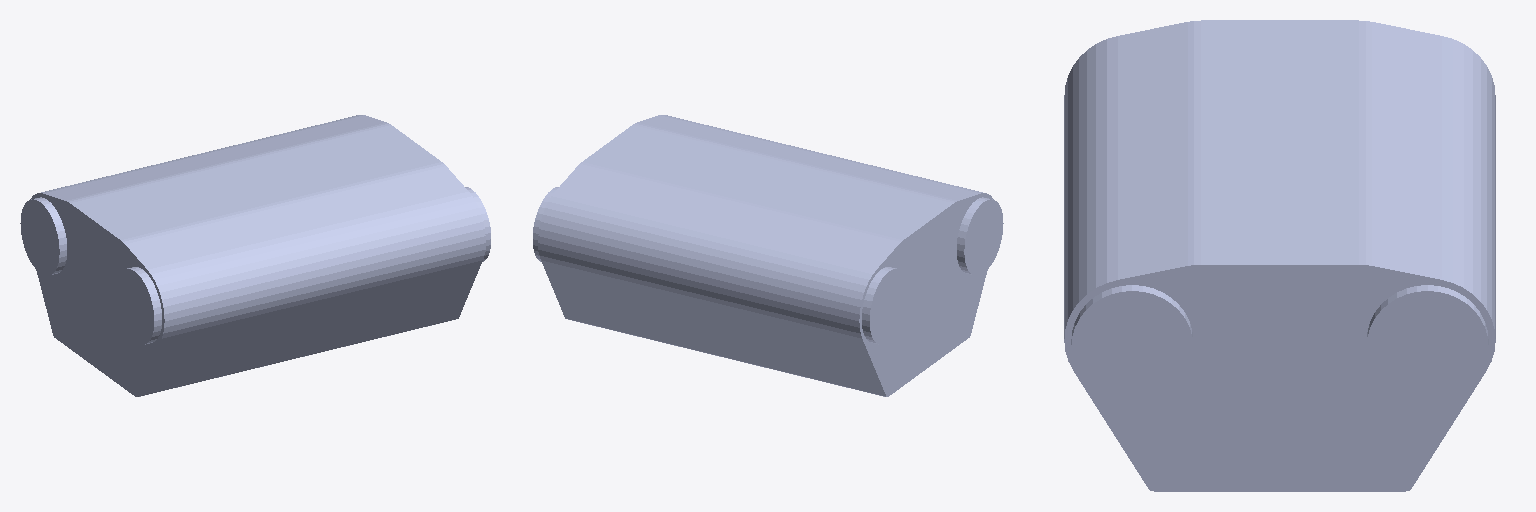
The robot description file, URDF, robot "bqr3":
<?xml version="1.0" encoding="utf-8"?>
<robot name="bqr3">
  <link name="base_link">
    <inertial>
      <origin
        xyz="-0.000092 0.001447 -0.042478"
        rpy="0 0 0" />
      <mass
        value="26.5" />
      <inertia
        ixx="0.259494841"
        ixy="-4.1227E-05"
        ixz="1.93862E-04"
        iyy="0.859939262"
        iyz="-2.040130E-03"
        izz="0.945567440" />
    </inertial>
    <visual>
      <origin
        xyz="0 0 0"
        rpy="0 0 0" />
      <geometry>
        <mesh
          filename="package://bqr3_description/meshes/base_link.STL" />
      </geometry>
      <material
        name="">
        <color
          rgba="0.79216 0.81961 0.93333 1" />
      </material>
    </visual>
    <collision>
      <origin
        xyz="0 0 0"
        rpy="0 0 0" />
      <geometry>
        <mesh
          filename="package://bqr3_description/meshes/base_link.STL" />
      </geometry>
    </collision>
  </link>
  
  <link name="FR_abd_link">
    <inertial>
      <origin
        xyz="0.050570 0.046892 1.0E-06"
        rpy="0 0 0" />
      <mass
        value="1.656" />
      <inertia
        ixx="0.002476692"
        ixy="4.00827E-04"
        ixz="3.0E-09"
        iyy="2.206021E-03"
        iyz="-5.9E-08"
        izz="2.653852E-03" />
    </inertial>
    <visual>
      <origin
        xyz="0 0 0"
        rpy="0 0 0" />
      <geometry>
        <mesh
          filename="package://bqr3_description/meshes/FR_abd_link.STL" />
      </geometry>
      <material
        name="">
        <color
          rgba="0.89804 0.91765 0.92941 1" />
      </material>
    </visual>
    <collision>
      <origin
        xyz="0 0 0"
        rpy="0 0 0" />
      <geometry>
        <mesh
          filename="package://bqr3_description/meshes/FR_abd_link.STL" />
      </geometry>
    </collision>
  </link>
  <joint name="FR_abd_joint" type="revolute">
    <origin
      xyz="0.244 -0.115 0"
      rpy="0 0 0" />
    <parent
      link="base_link" />
    <child
      link="FR_abd_link" />
    <axis
      xyz="1 0 0" />
    <limit
      lower="-3.14"
      upper="3.14"
      effort="300"
      velocity="10" />
    <limit
      lower="-3.14"
      upper="3.14"
      effort="300"
      velocity="10" />
  </joint>
  <link name="FR_hip_link">
    <inertial>
      <origin
        xyz="-0.00063 -0.0201 -0.15827"
        rpy="0 0 0" />
      <mass
        value="1.337" />
      <inertia
        ixx="0.018816808"
        ixy="-3.29929E-05"
        ixz="0.000792"
        iyy="0.018864419"
        iyz="0.000185"
        izz="0.000837451" />
    </inertial>
    <visual>
      <origin
        xyz="0 0 0"
        rpy="0 0 0" />
      <geometry>
        <mesh
          filename="package://bqr3_description/meshes/FR_hip_link.STL" />
      </geometry>
      <material
        name="">
        <color
          rgba="0.79216 0.81961 0.93333 1" />
      </material>
    </visual>
    <collision>
      <origin
        xyz="0 0 0"
        rpy="0 0 0" />
      <geometry>
        <mesh
          filename="package://bqr3_description/meshes/FR_hip_link.STL" />
      </geometry>
    </collision>
  </link>
  <joint name="FR_hip_joint" type="revolute">
    <origin
      xyz="0.056 0.018587 0"
      rpy="0 0 0" />
    <parent
      link="FR_abd_link" />
    <child
      link="FR_hip_link" />
    <axis
      xyz="0 1 0" />
    <limit
      lower="-3.14"
      upper="3.14"
      effort="300"
      velocity="10" />
  </joint>
  <link name="FR_knee_link">
    <inertial>
      <origin
        xyz="-0.00517 0 -0.12521"
        rpy="0 0 0" />
      <mass
        value="0.6489" />
      <inertia
        ixx="0.006478288"
        ixy="2.4E-10"
        ixz="-0.00013"
        iyy="0.006528945"
        iyz="-1.015E-08"
        izz="0.00013568" />
    </inertial>
    <visual>
      <origin
        xyz="0 0 0"
        rpy="0 0 0" />
      <geometry>
        <mesh
          filename="package://bqr3_description/meshes/FR_knee_link.STL" />
      </geometry>
      <material
        name="">
        <color
          rgba="0.898039215686275 0.917647058823529 0.929411764705882 1" />
      </material>
    </visual>
    <collision>
      <origin
        xyz="0 0 0"
        rpy="0 0 0" />
      <geometry>
        <mesh
          filename="package://bqr3_description/meshes/FR_knee_link.STL" />
      </geometry>
    </collision>
  </link>
  <joint name="FR_knee_joint" type="revolute">
    <origin
      xyz="0 -0.10009 -0.36"
      rpy="0 0 0" />
    <parent
      link="FR_hip_link" />
    <child
      link="FR_knee_link" />
    <axis
      xyz="0 1 0" />
    <limit
      lower="-3.14"
      upper="3.14"
      effort="300"
      velocity="10" />
  </joint>
  <link name="FR_foot_link">
    <inertial>
      <origin
        xyz="0.0011791 -0.00030084 -0.0024379"
        rpy="0 0 0" />
      <mass
        value="0.10321" />
      <inertia
        ixx="2.9572E-05"
        ixy="3.6317E-09"
        ixz="6.7484E-07"
        iyy="3.5401E-05"
        iyz="-9.1467E-09"
        izz="2.9167E-05" />
    </inertial>
    <visual>
      <origin
        xyz="0 0 0"
        rpy="0 0 0" />
      <geometry>
        <mesh
          filename="package://bqr3_description/meshes/FR_foot_link.STL" />
      </geometry>
      <material
        name="">
        <color
          rgba="1 1 1 1" />
      </material>
    </visual>
    <collision>
      <origin
        xyz="0 0 0"
        rpy="0 0 0" />
      <geometry>
        <mesh
          filename="package://bqr3_description/meshes/FR_foot_link.STL" />
      </geometry>
    </collision>
  </link>
  <joint name="FR_foot_joint" type="fixed">
    <origin
      xyz="-0.00054829 0 -0.36"
      rpy="0 0 0" />
    <parent
      link="FR_knee_link" />
    <child
      link="FR_foot_link" />
  </joint>

  <link name="HR_abd_link">
    <inertial>
      <origin
        xyz="-0.050570 0.046982 -1.0E-06"
        rpy="0 0 0" />
      <mass
        value="1.656" />
      <inertia
        ixx="0.002476692"
        ixy="-4.00827E-04"
        ixz="3.0E-09"
        iyy="2.206021E-03"
        iyz="5.9E-08"
        izz="2.653852E-03" />
    </inertial>
    <visual>
      <origin
        xyz="0 0 0"
        rpy="0 0 0" />
      <geometry>
        <mesh
          filename="package://bqr3_description/meshes/HR_abd_link.STL" />
      </geometry>
      <material
        name="">
        <color
          rgba="0.89804 0.91765 0.92941 1" />
      </material>
    </visual>
    <collision>
      <origin
        xyz="0 0 0"
        rpy="0 0 0" />
      <geometry>
        <mesh
          filename="package://bqr3_description/meshes/HR_abd_link.STL" />
      </geometry>
    </collision>
  </link>
  <joint name="HR_abd_joint" type="revolute">
    <origin
      xyz="-0.244 -0.115 0"
      rpy="0 0 0" />
    <parent
      link="base_link" />
    <child
      link="HR_abd_link" />
    <axis
      xyz="1 0 0" />
    <limit
      lower="-3.14"
      upper="3.14"
      effort="300"
      velocity="10" />
  </joint>
  <link name="HR_hip_link">
    <inertial>
      <origin
        xyz="-0.00063 -0.0201 -0.15827"
        rpy="0 0 0" />
      <mass
        value="1.337" />
      <inertia
        ixx="0.018816808"
        ixy="-3.29929E-05"
        ixz="0.000792"
        iyy="0.018864419"
        iyz="0.000185"
        izz="0.000837451" />
    </inertial>
    <visual>
      <origin
        xyz="0 0 0"
        rpy="0 0 0" />
      <geometry>
        <mesh
          filename="package://bqr3_description/meshes/HR_hip_link.STL" />
      </geometry>
      <material
        name="">
        <color
          rgba="0.79216 0.81961 0.93333 1" />
      </material>
    </visual>
    <collision>
      <origin
        xyz="0 0 0"
        rpy="0 0 0" />
      <geometry>
        <mesh
          filename="package://bqr3_description/meshes/HR_hip_link.STL" />
      </geometry>
    </collision>
  </link>
  <joint name="HR_hip_joint" type="revolute">
    <origin
      xyz="-0.056 0.018587 0"
      rpy="0 0 0" />
    <parent
      link="HR_abd_link" />
    <child
      link="HR_hip_link" />
    <axis
      xyz="0 1 0" />
    <limit
      lower="-3.14"
      upper="3.14"
      effort="300"
      velocity="10" />
  </joint>
  <link name="HR_knee_link">
    <inertial>
      <origin
        xyz="-0.00517 0 -0.12521"
        rpy="0 0 0" />
      <mass
        value="0.6489" />
      <inertia
        ixx="0.006478288"
        ixy="2.4E-10"
        ixz="-0.00013"
        iyy="0.006528945"
        iyz="-1.015E-08"
        izz="0.00013568" />
    </inertial>
    <visual>
      <origin
        xyz="0 0 0"
        rpy="0 0 0" />
      <geometry>
        <mesh
          filename="package://bqr3_description/meshes/HR_knee_link.STL" />
      </geometry>
      <material
        name="">
        <color
          rgba="0.89804 0.91765 0.92941 1" />
      </material>
    </visual>
    <collision>
      <origin
        xyz="0 0 0"
        rpy="0 0 0" />
      <geometry>
        <mesh
          filename="package://bqr3_description/meshes/HR_knee_link.STL" />
      </geometry>
    </collision>
  </link>
  <joint name="HR_knee_joint" type="revolute">
    <origin
      xyz="0 -0.10009 -0.36"
      rpy="0 0 0" />
    <parent
      link="HR_hip_link" />
    <child
      link="HR_knee_link" />
    <axis
      xyz="0 1 0" />
    <limit
      lower="-3.14"
      upper="3.14"
      effort="300"
      velocity="10" />
  </joint>
  <link name="HR_foot_link">
    <inertial>
      <origin
        xyz="0.0011791 -0.00030085 -0.0024379"
        rpy="0 0 0" />
      <mass
        value="0.10321" />
      <inertia
        ixx="2.9572E-05"
        ixy="3.6261E-09"
        ixz="6.7484E-07"
        iyy="3.5401E-05"
        iyz="-9.1442E-09"
        izz="2.9167E-05" />
    </inertial>
    <visual>
      <origin
        xyz="0 0 0"
        rpy="0 0 0" />
      <geometry>
        <mesh
          filename="package://bqr3_description/meshes/HR_foot_link.STL" />
      </geometry>
      <material
        name="">
        <color
          rgba="1 1 1 1" />
      </material>
    </visual>
    <collision>
      <origin
        xyz="0 0 0"
        rpy="0 0 0" />
      <geometry>
        <mesh
          filename="package://bqr3_description/meshes/HR_foot_link.STL" />
      </geometry>
    </collision>
  </link>
  <joint name="HR_foot_joint" type="fixed">
    <origin
      xyz="-0.00054828 0 -0.36"
      rpy="0 0 0" />
    <parent
      link="HR_knee_link" />
    <child
      link="HR_foot_link" />
    <axis
      xyz="0 0 0" />
  </joint>

  <link name="FL_abd_link">
    <inertial>
      <origin
        xyz="0.050570 -0.046982 -1.0E-06"
        rpy="0 0 0" />
      <mass
        value="1.656" />
      <inertia
        ixx="0.002476692"
        ixy="-4.00827E-04"
        ixz="-3.0E-09"
        iyy="2.206021E-03"
        iyz="-5.9E-08"
        izz="2.653852E-03" />
    </inertial>
    <visual>
      <origin
        xyz="0 0 0"
        rpy="0 0 0" />
      <geometry>
        <mesh
          filename="package://bqr3_description/meshes/FL_abd_link.STL" />
      </geometry>
      <material
        name="">
        <color
          rgba="0.89804 0.91765 0.92941 1" />
      </material>
    </visual>
    <collision>
      <origin
        xyz="0 0 0"
        rpy="0 0 0" />
      <geometry>
        <mesh
          filename="package://bqr3_description/meshes/FL_abd_link.STL" />
      </geometry>
    </collision>
  </link>
  <joint name="FL_abd_joint" type="revolute">
    <origin
      xyz="0.244 0.115 0"
      rpy="0 0 0" />
    <parent
      link="base_link" />
    <child
      link="FL_abd_link" />
    <axis
      xyz="1 0 0" />
    <limit
      lower="-3.14"
      upper="3.14"
      effort="300"
      velocity="10" />
  </joint>
  <link name="FL_hip_link">
    <inertial>
      <origin
        xyz="-0.00063 0.0201 -0.15827"
        rpy="0 0 0" />
      <mass
        value="1.337" />
      <inertia
        ixx="0.018816835"
        ixy="-3.29964E-05"
        ixz="0.000792"
        iyy="0.018864405"
        iyz="0.000185353"
        izz="0.000837413" />
    </inertial>
    <visual>
      <origin
        xyz="0 0 0"
        rpy="0 0 0" />
      <geometry>
        <mesh
          filename="package://bqr3_description/meshes/FL_hip_link.STL" />
      </geometry>
      <material
        name="">
        <color
          rgba="0.79216 0.81961 0.93333 1" />
      </material>
    </visual>
    <collision>
      <origin
        xyz="0 0 0"
        rpy="0 0 0" />
      <geometry>
        <mesh
          filename="package://bqr3_description/meshes/FL_hip_link.STL" />
      </geometry>
    </collision>
  </link>
  <joint name="FL_hip_joint" type="revolute">
    <origin
      xyz="0.056 -0.018587 0"
      rpy="0 0 0" />
    <parent
      link="FL_abd_link" />
    <child
      link="FL_hip_link" />
    <axis
      xyz="0 1 0" />
    <limit
      lower="-3.14"
      upper="3.14"
      effort="300"
      velocity="10" />
  </joint>
  <link name="FL_knee_link">
    <inertial>
      <origin
        xyz="-0.00517 0 -0.12521"
        rpy="0 0 0" />
      <mass
        value="0.6489" />
      <inertia
        ixx="0.006478288"
        ixy="2.4E-10"
        ixz="-0.00013"
        iyy="0.006528945"
        iyz="-1.015E-08"
        izz="0.00013568" />
    </inertial>
    <visual>
      <origin
        xyz="0 0 0"
        rpy="0 0 0" />
      <geometry>
        <mesh
          filename="package://bqr3_description/meshes/FL_knee_link.STL" />
      </geometry>
      <material
        name="">
        <color
          rgba="0.89804 0.91765 0.92941 1" />
      </material>
    </visual>
    <collision>
      <origin
        xyz="0 0 0"
        rpy="0 0 0" />
      <geometry>
        <mesh
          filename="package://bqr3_description/meshes/FL_knee_link.STL" />
      </geometry>
    </collision>
  </link>
  <joint name="FL_knee_joint" type="revolute">
    <origin
      xyz="0 0.10009 -0.36"
      rpy="0 0 0" />
    <parent
      link="FL_hip_link" />
    <child
      link="FL_knee_link" />
    <axis
      xyz="0 1 0" />
    <limit
      lower="-3.14"
      upper="3.14"
      effort="300"
      velocity="10" />
  </joint>
  <link name="FL_foot_link">
    <inertial>
      <origin
        xyz="0.0011791 9.9156E-05 -0.0024379"
        rpy="0 0 0" />
      <mass
        value="0.10321" />
      <inertia
        ixx="2.9572E-05"
        ixy="3.6295E-09"
        ixz="6.7484E-07"
        iyy="3.5401E-05"
        iyz="-9.1457E-09"
        izz="2.9167E-05" />
    </inertial>
    <visual>
      <origin
        xyz="0 0 0"
        rpy="0 0 0" />
      <geometry>
        <mesh
          filename="package://bqr3_description/meshes/FL_foot_link.STL" />
      </geometry>
      <material
        name="">
        <color
          rgba="1 1 1 1" />
      </material>
    </visual>
    <collision>
      <origin
        xyz="0 0 0"
        rpy="0 0 0" />
      <geometry>
        <mesh
          filename="package://bqr3_description/meshes/FL_foot_link.STL" />
      </geometry>
    </collision>
  </link>
  <joint name="FL_foot_joint" type="fixed">
    <origin
      xyz="-0.00054828 0 -0.36"
      rpy="0 0 0" />
    <parent
      link="FL_knee_link" />
    <child
      link="FL_foot_link" />
    <axis
      xyz="0 0 0" />
  </joint>

  <link name="HL_abd_link">
    <inertial>
      <origin
        xyz="-0.050570 -0.046982 1.0E-06"
        rpy="0 0 0" />
      <mass
        value="1.656" />
      <inertia
        ixx="0.002476692"
        ixy="4.00827E-04"
        ixz="-3.0E-09"
        iyy="2.206021E-03"
        iyz="5.9E-08"
        izz="2.653852E-03" />
    </inertial>
    <visual>
      <origin
        xyz="0 0 0"
        rpy="0 0 0" />
      <geometry>
        <mesh
          filename="package://bqr3_description/meshes/HL_abd_link.STL" />
      </geometry>
      <material
        name="">
        <color
          rgba="0.89804 0.91765 0.92941 1" />
      </material>
    </visual>
    <collision>
      <origin
        xyz="0 0 0"
        rpy="0 0 0" />
      <geometry>
        <mesh
          filename="package://bqr3_description/meshes/HL_abd_link.STL" />
      </geometry>
    </collision>
  </link>
  <joint name="HL_abd_joint" type="revolute">
    <origin
      xyz="-0.244 0.115 0"
      rpy="0 0 0" />
    <parent
      link="base_link" />
    <child
      link="HL_abd_link" />
    <axis
      xyz="1 0 0" />
    <limit
      lower="-3.14"
      upper="3.14"
      effort="300"
      velocity="10" />
  </joint>
  <link name="HL_hip_link">
    <inertial>
      <origin
        xyz="-0.00063 0.0201 -0.15827"
        rpy="0 0 0" />
      <mass
        value="1.337" />
      <inertia
        ixx="0.018816835"
        ixy="-3.29964E-05"
        ixz="0.000792"
        iyy="0.018864405"
        iyz="0.000185353"
        izz="0.000837413" />
    </inertial>
    <visual>
      <origin
        xyz="0 0 0"
        rpy="0 0 0" />
      <geometry>
        <mesh
          filename="package://bqr3_description/meshes/HL_hip_link.STL" />
      </geometry>
      <material
        name="">
        <color
          rgba="0.89804 0.91765 0.92941 1" />
      </material>
    </visual>
    <collision>
      <origin
        xyz="0 0 0"
        rpy="0 0 0" />
      <geometry>
        <mesh
          filename="package://bqr3_description/meshes/HL_hip_link.STL" />
      </geometry>
    </collision>
  </link>
  <joint name="HL_hip_joint" type="revolute">
    <origin
      xyz="-0.056 -0.018588 0"
      rpy="0 0 0" />
    <parent
      link="HL_abd_link" />
    <child
      link="HL_hip_link" />
    <axis
      xyz="0 1 0" />
    <limit
      lower="-3.14"
      upper="3.14"
      effort="300"
      velocity="10" />
  </joint>
  <link name="HL_knee_link">
    <inertial>
      <origin
        xyz="-0.00517 0 -0.12521"
        rpy="0 0 0" />
      <mass
        value="0.6489" />
      <inertia
        ixx="0.006478288"
        ixy="2.4E-10"
        ixz="-0.00013"
        iyy="0.006528945"
        iyz="-1.015E-08"
        izz="0.00013568" />
    </inertial>
    <visual>
      <origin
        xyz="0 0 0"
        rpy="0 0 0" />
      <geometry>
        <mesh
          filename="package://bqr3_description/meshes/HL_knee_link.STL" />
      </geometry>
      <material
        name="">
        <color
          rgba="0.89804 0.91765 0.92941 1" />
      </material>
    </visual>
    <collision>
      <origin
        xyz="0 0 0"
        rpy="0 0 0" />
      <geometry>
        <mesh
          filename="package://bqr3_description/meshes/HL_knee_link.STL" />
      </geometry>
    </collision>
  </link>
  <joint name="HL_knee_joint" type="revolute">
    <origin
      xyz="0 0.10009 -0.36"
      rpy="0 0 0" />
    <parent
      link="HL_hip_link" />
    <child
      link="HL_knee_link" />
    <axis
      xyz="0 1 0" />
    <limit
      lower="-3.14"
      upper="3.14"
      effort="300"
      velocity="10" />
  </joint>
  <link name="HL_foot_link">
    <inertial>
      <origin
        xyz="0.0011791 0.00049916 -0.0024379"
        rpy="0 0 0" />
      <mass
        value="0.10321" />
      <inertia
        ixx="2.9572E-05"
        ixy="3.6351E-09"
        ixz="6.7483E-07"
        iyy="3.5401E-05"
        iyz="-9.1482E-09"
        izz="2.9167E-05" />
    </inertial>
    <visual>
      <origin
        xyz="0 0 0"
        rpy="0 0 0" />
      <geometry>
        <mesh
          filename="package://bqr3_description/meshes/HL_foot_link.STL" />
      </geometry>
      <material
        name="">
        <color
          rgba="1 1 1 1" />
      </material>
    </visual>
    <collision>
      <origin
        xyz="0 0 0"
        rpy="0 0 0" />
      <geometry>
        <mesh
          filename="package://bqr3_description/meshes/HL_foot_link.STL" />
      </geometry>
    </collision>
  </link>
  <joint name="HL_foot_joint" type="fixed">
    <origin
      xyz="-0.00054828 0 -0.36"
      rpy="0 0 0" />
    <parent
      link="HL_knee_link" />
    <child
      link="HL_foot_link" />
    <axis
      xyz="0 0 0" />
  </joint>
</robot>

--- Facts derived from the render (not from the file) ---
The picture shows the robot from 3 angles, left to right: view 1: azimuth 30°, elevation 25°; view 2: azimuth 150°, elevation 25°; view 3: azimuth 270°, elevation 25°; orthographic projection.
Robot: bqr3 — 17 links, 16 joints (12 revolute, 4 fixed); root link base_link; default pose: all joints at 0.
Visible links, largest first — view 1: base_link; view 2: base_link; view 3: base_link.
Link boxes in pixels (left/top/right/bottom): base_link: left=20, top=115, right=490, bottom=396; base_link: left=533, top=115, right=1003, bottom=396; base_link: left=1064, top=20, right=1495, bottom=491.
Size in the robot's own frame: 0.472 by 0.336 by 0.195 metres.
1 mesh visuals loaded from 17 distinct referenced files (1 binary STL); not drawn: 16 (reference not matched to a file when rendering).